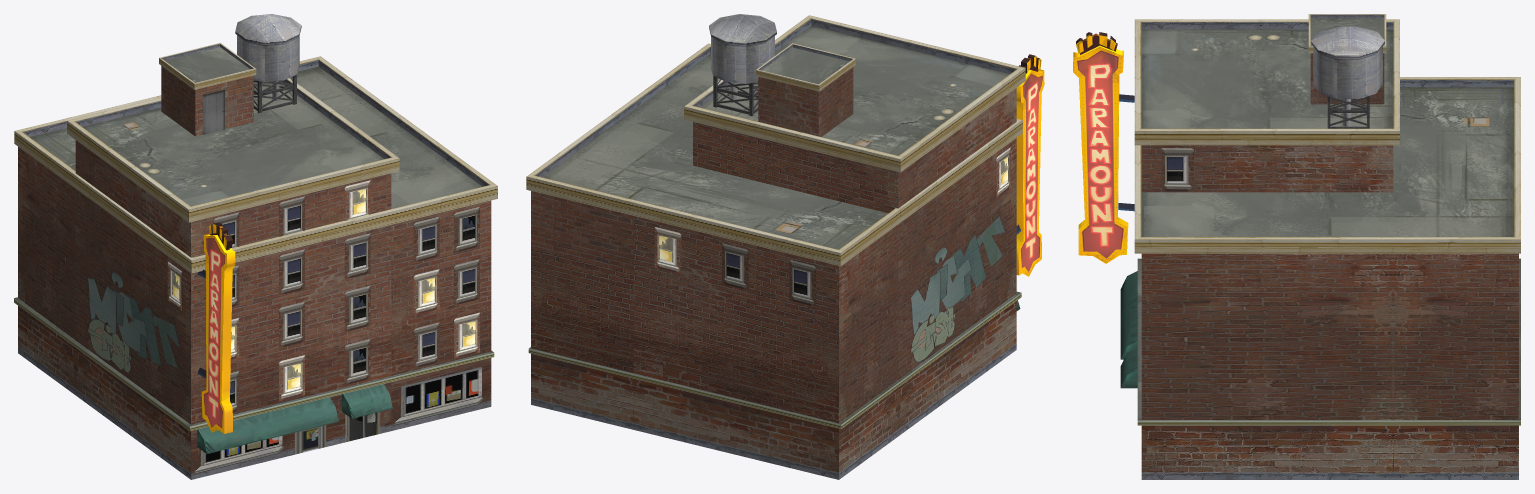
The picture shows the model from 3 angles, left to right: view 1: azimuth 30°, elevation 25°; view 2: azimuth 150°, elevation 25°; view 3: azimuth 270°, elevation 25°; orthographic projection. The views are drawn at different scales.
Visible parts, largest first — view 1: polySurface3_Paramount1GLOW_0; view 2: polySurface3_Paramount1GLOW_0; view 3: polySurface3_Paramount1GLOW_0.
Part boxes in pixels (<box>): polySurface3_Paramount1GLOW_0: <box>14,14,497,479</box>; polySurface3_Paramount1GLOW_0: <box>526,14,1044,479</box>; polySurface3_Paramount1GLOW_0: <box>1073,14,1520,479</box>.
Size of the model in its own units: 9.27 by 10.13 by 10.68.
2 materials, 2 textured.
